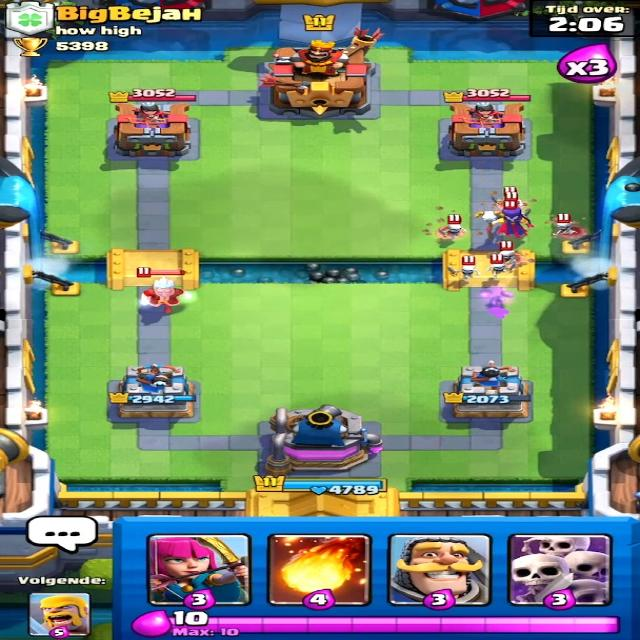Enemy_Ice_Wizard_Troop: (137, 277, 190, 317)
Enemy_Skeleton_Troop: (446, 258, 484, 283), (548, 218, 579, 239), (443, 219, 466, 241), (491, 258, 508, 278)
Enemy_Witch_Troop: (483, 207, 537, 240)
Fireball_Card: (276, 537, 376, 604)
